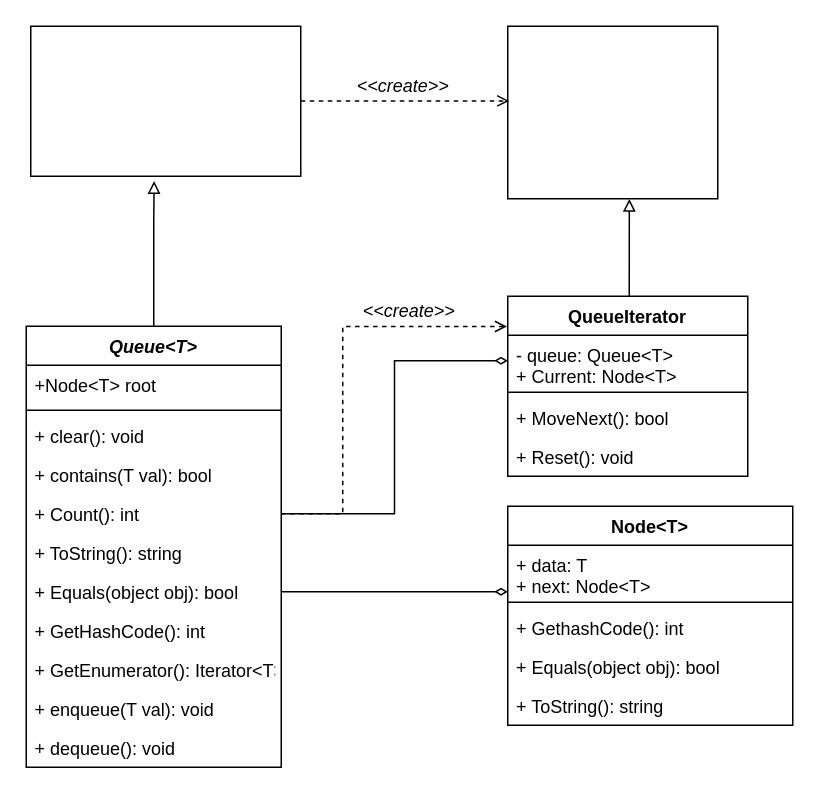
This 819x798 diagram has some shape labels left out. Here are the shapes that lost their labels. From the top down, the box of each, then its label:
(29, 25, 301, 176): <<Interface>> Enumerable + GetEnumerator(): Iterator<T>
(506, 25, 718, 199): <<Interface>> Iterator + Current: Node<T> + MoveNext(): bool + Reset(): void
